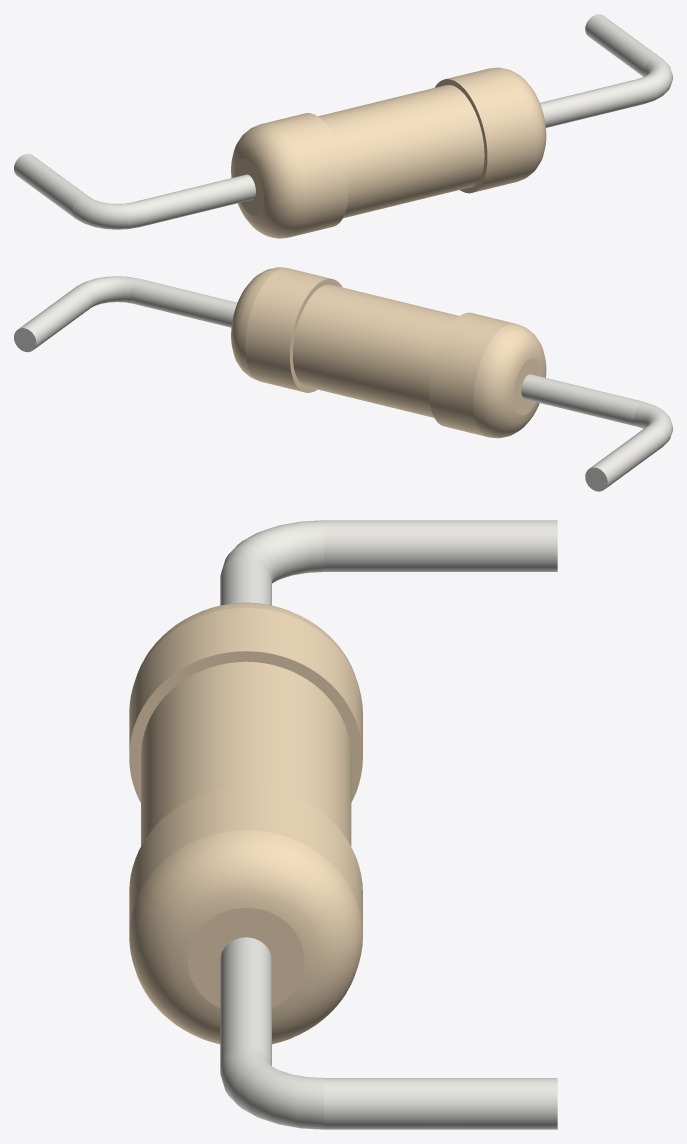
Rendered from R_Axial_DIN0411_L9.9mm_D3.6mm_P20.32mm_Horizontal.glb.
3 views of the same model, one above another, from view 1: azimuth 30°, elevation 25°; view 2: azimuth 150°, elevation 25°; view 3: azimuth 270°, elevation 25° (orthographic). The views are drawn at different scales.
Visible parts, largest first — view 1: Shape_IndexedFaceSet.004, Shape_IndexedFaceSet.008, Shape_IndexedFaceSet, Shape_IndexedFaceSet.001, Shape_IndexedFaceSet.005, Shape_IndexedFaceSet.013, Shape_IndexedFaceSet.009, Shape_IndexedFaceSet.015, Shape_IndexedFaceSet.007, Shape_IndexedFaceSet.010, Shape_IndexedFaceSet.014, Shape_IndexedFaceSet.003 (+1 smaller); view 2: Shape_IndexedFaceSet.004, Shape_IndexedFaceSet, Shape_IndexedFaceSet.008, Shape_IndexedFaceSet.001, Shape_IndexedFaceSet.005, Shape_IndexedFaceSet.013, Shape_IndexedFaceSet.015, Shape_IndexedFaceSet.009, Shape_IndexedFaceSet.010, Shape_IndexedFaceSet.014, Shape_IndexedFaceSet.007, Shape_IndexedFaceSet.003 (+3 smaller); view 3: Shape_IndexedFaceSet.010, Shape_IndexedFaceSet.004, Shape_IndexedFaceSet.009, Shape_IndexedFaceSet.015, Shape_IndexedFaceSet.008, Shape_IndexedFaceSet, Shape_IndexedFaceSet.012, Shape_IndexedFaceSet.013, Shape_IndexedFaceSet.014, Shape_IndexedFaceSet.002, Shape_IndexedFaceSet.007, Shape_IndexedFaceSet.005 (+1 smaller).
Part boxes in pixels (x1,y1,x2,y2): Shape_IndexedFaceSet.004: (318,85,484,218); Shape_IndexedFaceSet.008: (445,68,531,192); Shape_IndexedFaceSet: (262,113,348,237); Shape_IndexedFaceSet.001: (231,124,303,238); Shape_IndexedFaceSet.005: (135,174,255,226); Shape_IndexedFaceSet.013: (540,79,646,127); Shape_IndexedFaceSet.009: (14,153,90,217); Shape_IndexedFaceSet.015: (585,14,660,76); Shape_IndexedFaceSet.007: (72,196,143,229); Shape_IndexedFaceSet.010: (492,67,546,180); Shape_IndexedFaceSet.014: (638,57,672,103); Shape_IndexedFaceSet.003: (235,158,263,215); Shape_IndexedFaceSet.004: (293,284,458,417); Shape_IndexedFaceSet: (429,312,514,436); Shape_IndexedFaceSet.008: (245,268,331,392); Shape_IndexedFaceSet.001: (473,323,546,438); Shape_IndexedFaceSet.005: (521,374,642,426); Shape_IndexedFaceSet.013: (130,278,237,327); Shape_IndexedFaceSet.015: (19,285,94,349); Shape_IndexedFaceSet.009: (589,424,665,488); Shape_IndexedFaceSet.010: (231,267,284,380); Shape_IndexedFaceSet.014: (78,276,138,307); Shape_IndexedFaceSet.007: (634,401,672,444); Shape_IndexedFaceSet.003: (513,358,542,415); Shape_IndexedFaceSet.010: (129,830,362,1044); Shape_IndexedFaceSet.004: (141,661,351,846); Shape_IndexedFaceSet.009: (324,520,557,571); Shape_IndexedFaceSet.015: (324,1078,557,1129); Shape_IndexedFaceSet.008: (129,787,362,932); Shape_IndexedFaceSet: (129,608,362,753); Shape_IndexedFaceSet.012: (187,908,304,1007); Shape_IndexedFaceSet.013: (220,937,271,1066); Shape_IndexedFaceSet.014: (220,1047,323,1129); Shape_IndexedFaceSet.002: (129,651,362,802); Shape_IndexedFaceSet.007: (222,520,323,583); Shape_IndexedFaceSet.005: (220,555,271,605).
Bounding box in the file's own units: 8.31 × 1.42 × 2.6.
